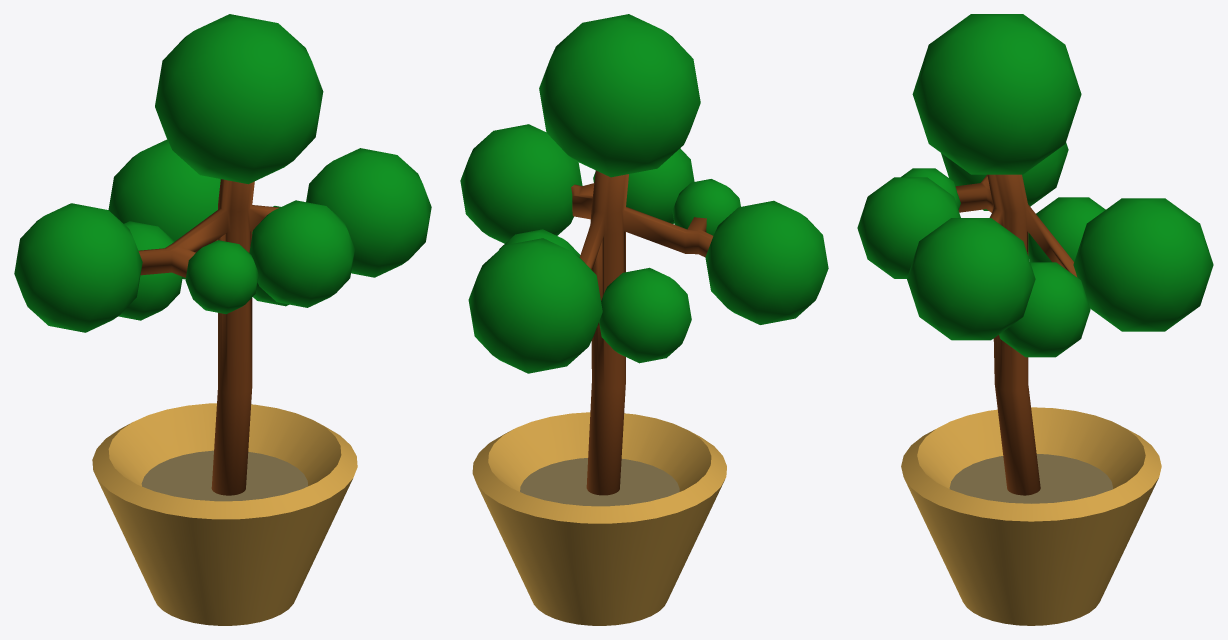
File: Plant.1.fbx
3 views of the same model, side by side, from view 1: azimuth 30°, elevation 25°; view 2: azimuth 150°, elevation 25°; view 3: azimuth 270°, elevation 25° (orthographic). The views are drawn at different scales.
Visible parts, largest first — view 1: folhas, VPlanta, Tronco, Círculo; view 2: folhas, VPlanta, Tronco, Círculo; view 3: folhas, VPlanta, Tronco, Círculo.
Part boxes in pixels (x1,y1,x2,y2): folhas: (14,14,431,332); VPlanta: (92,403,357,625); Tronco: (138,179,279,495); Círculo: (141,450,307,501); folhas: (460,14,828,373); VPlanta: (472,412,726,625); Tronco: (571,170,713,495); Círculo: (520,458,679,506); folhas: (857,14,1213,357); VPlanta: (901,407,1161,625); Tronco: (955,174,1077,495); Círculo: (949,454,1113,503).
Bounding box in the file's own units: 165 × 244 × 137.
